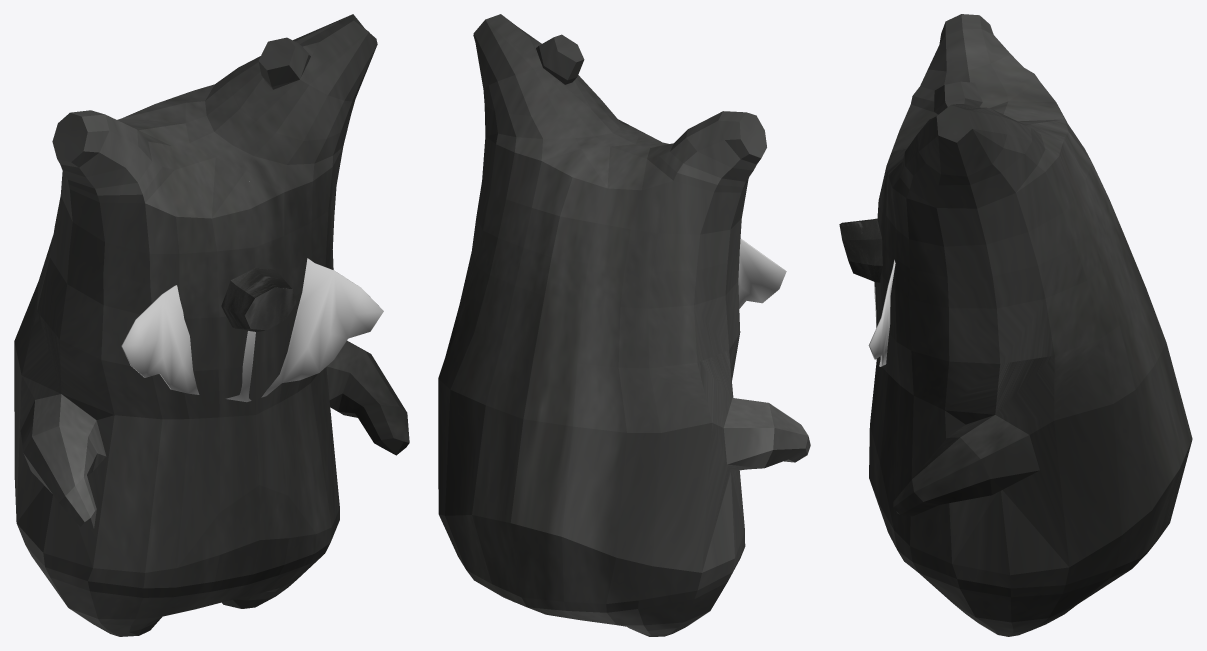
The model's file is frame_0003.obj.
The picture shows the model from 3 angles, left to right: view 1: azimuth 30°, elevation 25°; view 2: azimuth 150°, elevation 25°; view 3: azimuth 270°, elevation 25°; orthographic projection. The views are drawn at different scales.
Visible parts, largest first — view 1: korok, leaf, nose; view 2: korok, leaf; view 3: korok, nose, leaf.
Part boxes in pixels (x1,y1,x2,y2): korok: (14, 14, 409, 636); leaf: (121, 181, 383, 402); nose: (221, 267, 296, 331); korok: (438, 14, 810, 636); leaf: (738, 238, 786, 308); korok: (869, 14, 1192, 636); nose: (839, 218, 882, 282); leaf: (868, 259, 895, 366).
Bounding box in the file's own units: 1.38 × 2.23 × 1.27.
